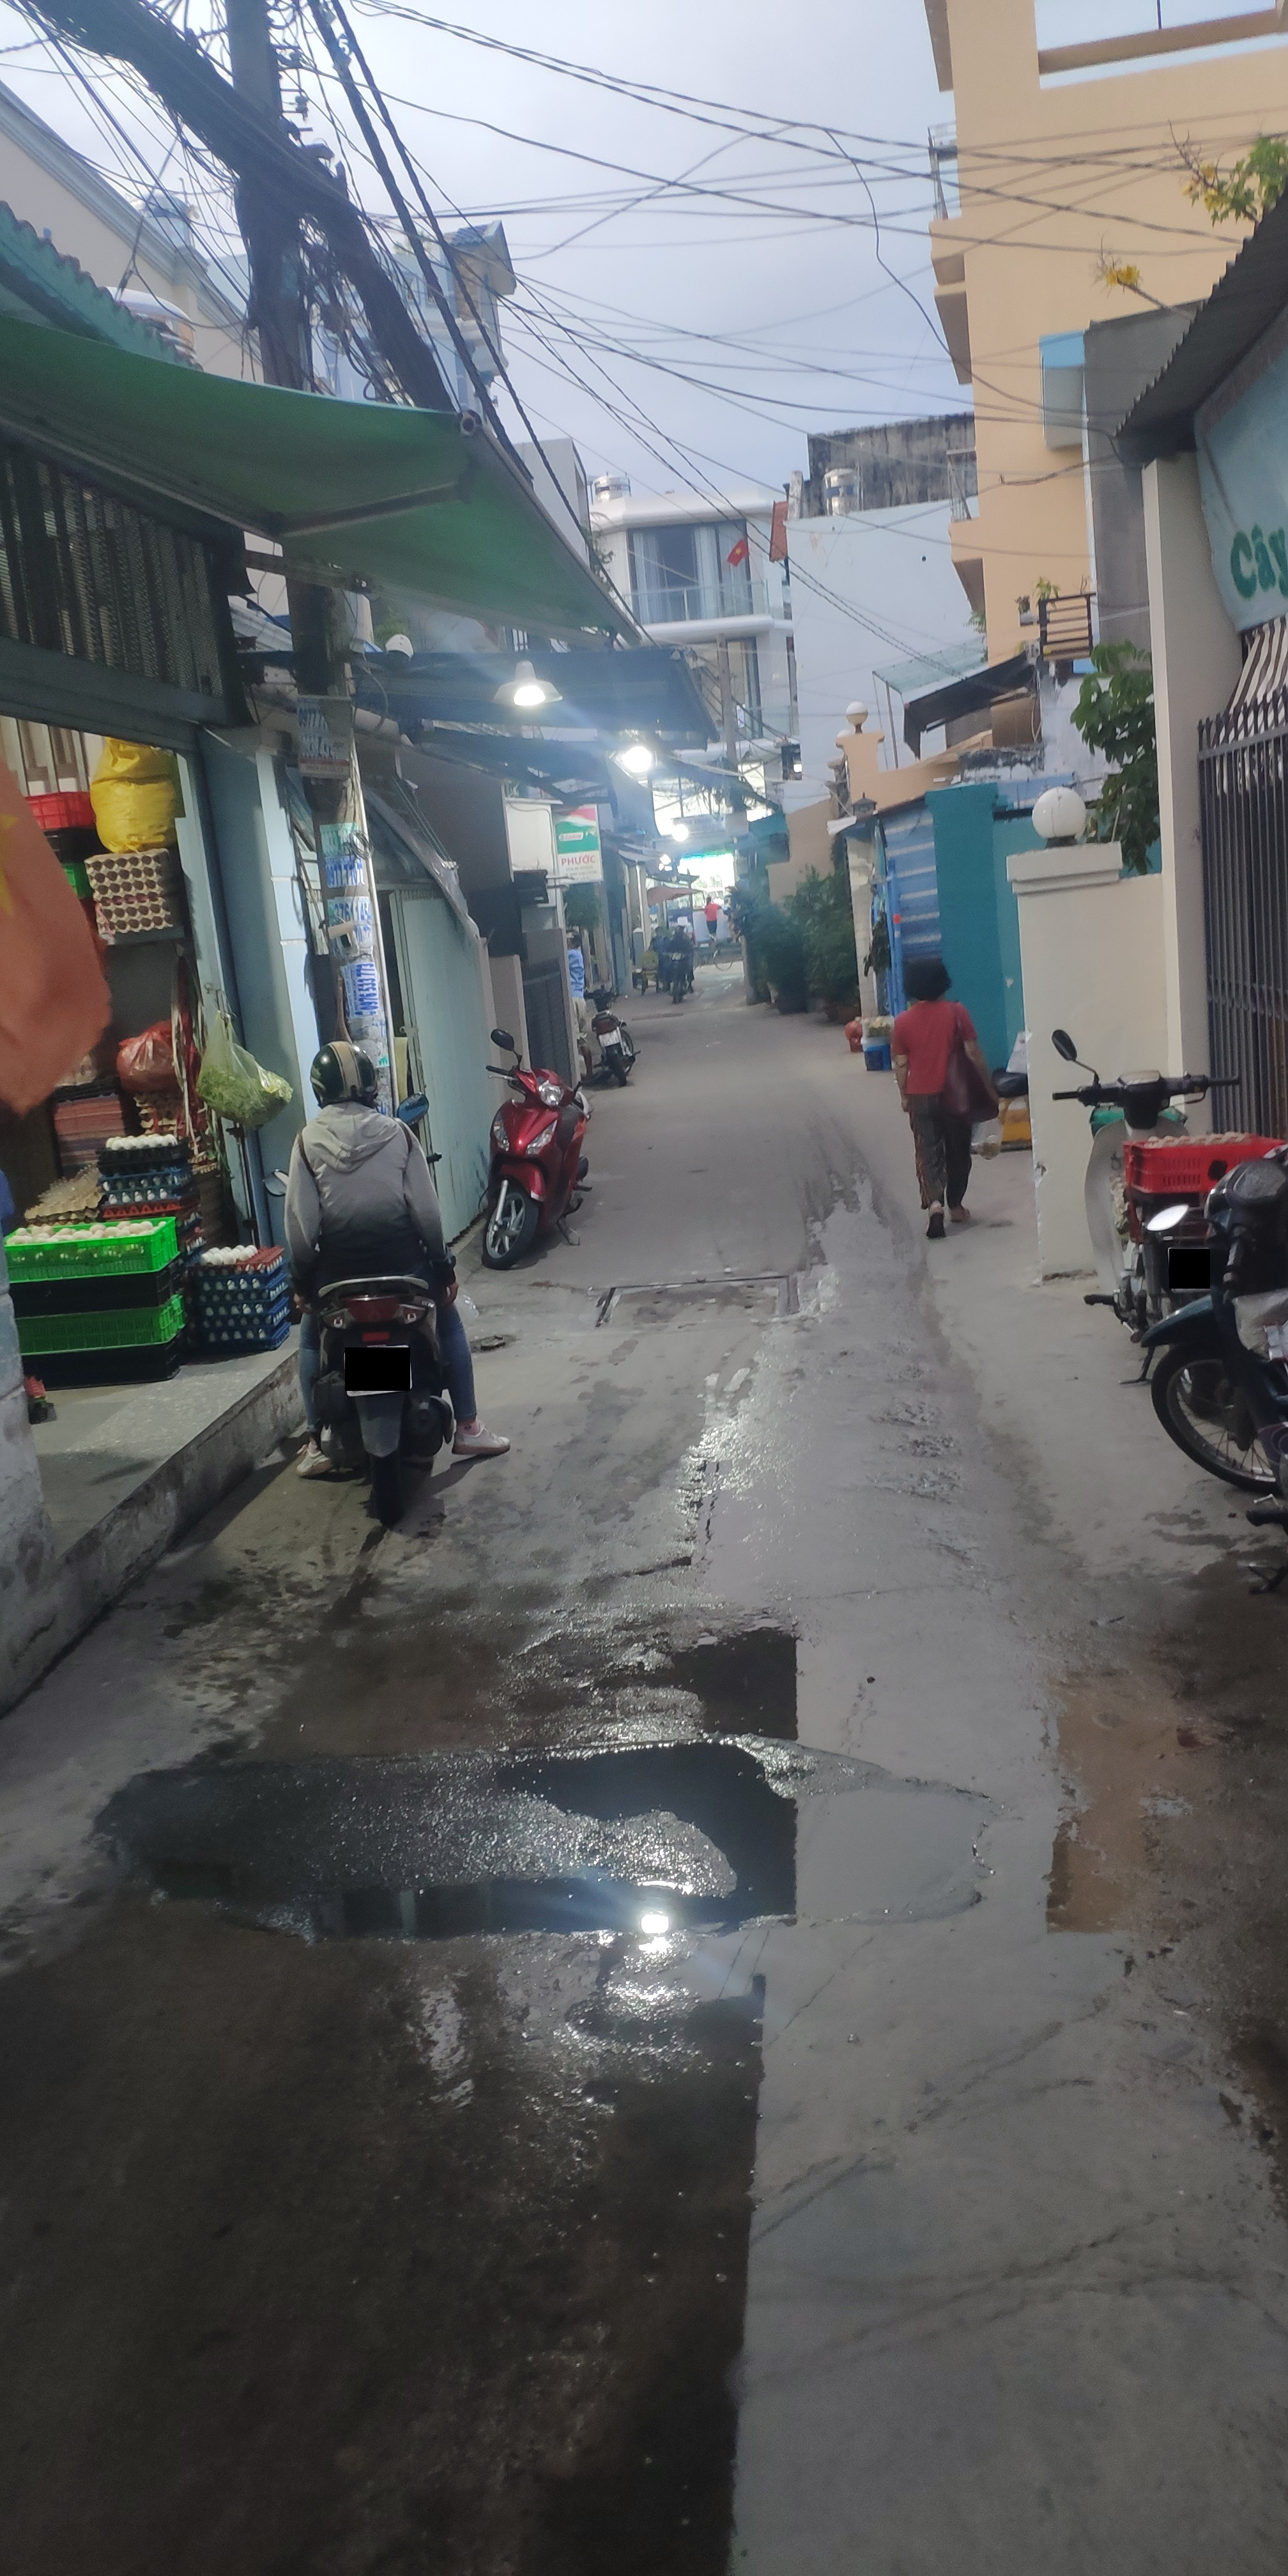hole: (347, 1733, 793, 1937), (606, 1618, 807, 1733)
